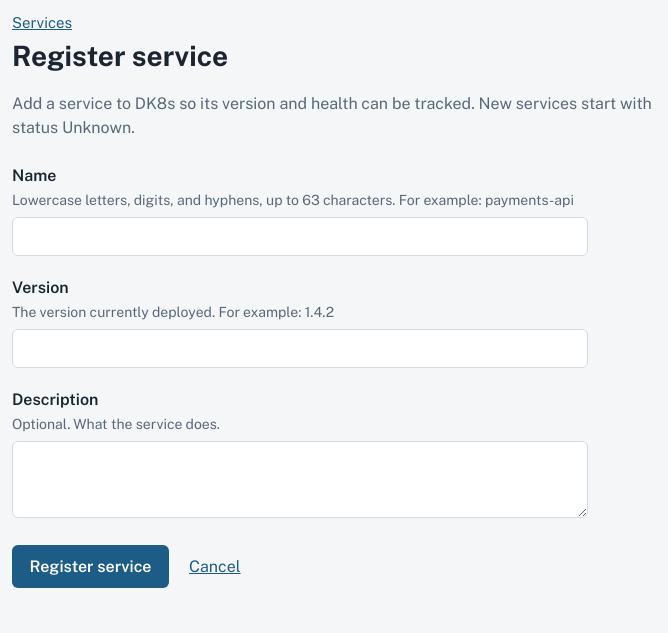
Scenario: RegisterServicePage › explains a duplicate name conflict
Type "payments-api" into the field labelled "Name" at (300, 237), box left=12, top=218, right=588, bottom=256
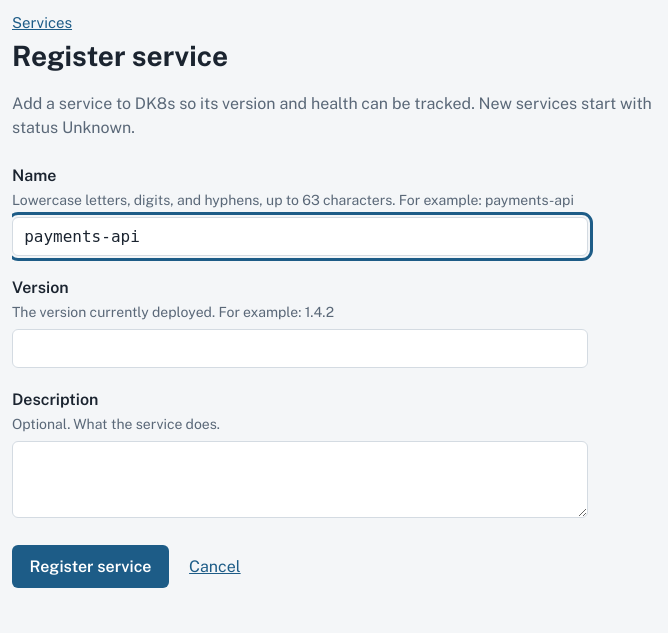
Type "1.4.2" into the field labelled "Version" at (300, 349), box left=12, top=330, right=588, bottom=368
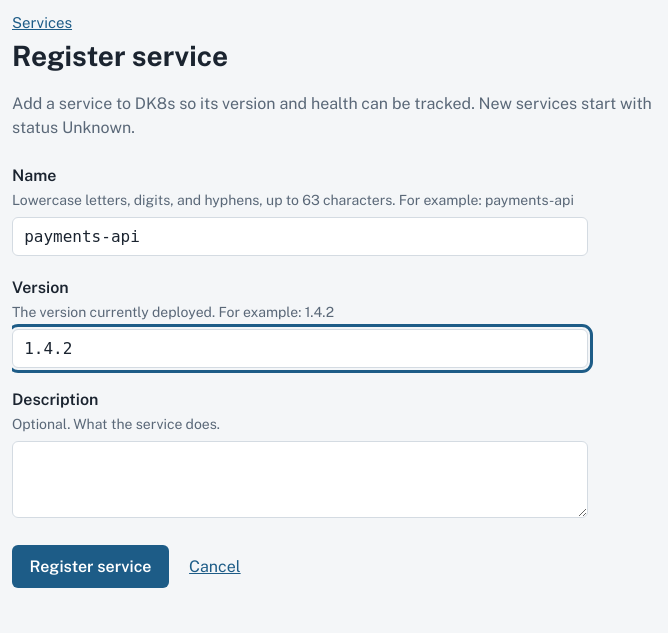
Click the button "Register service" at (91, 567), box left=12, top=545, right=169, bottom=588
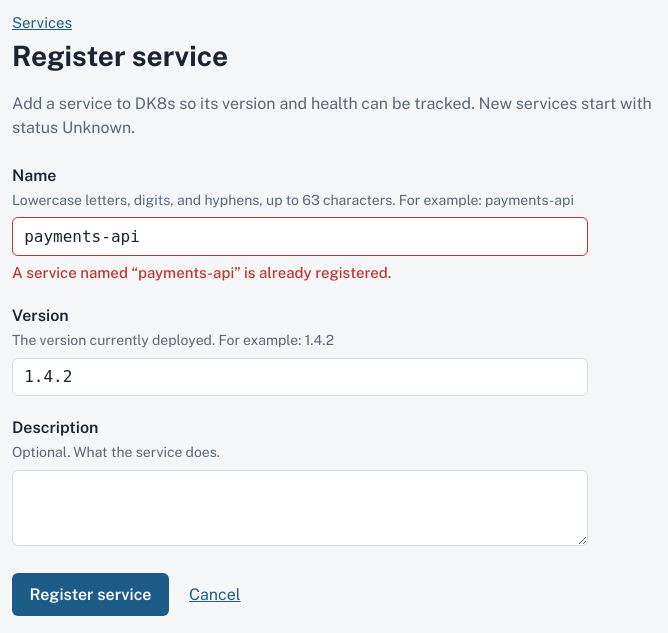
Now the text "A service named “payments-api” is already registered." is shown, box left=12, top=264, right=391, bottom=281
